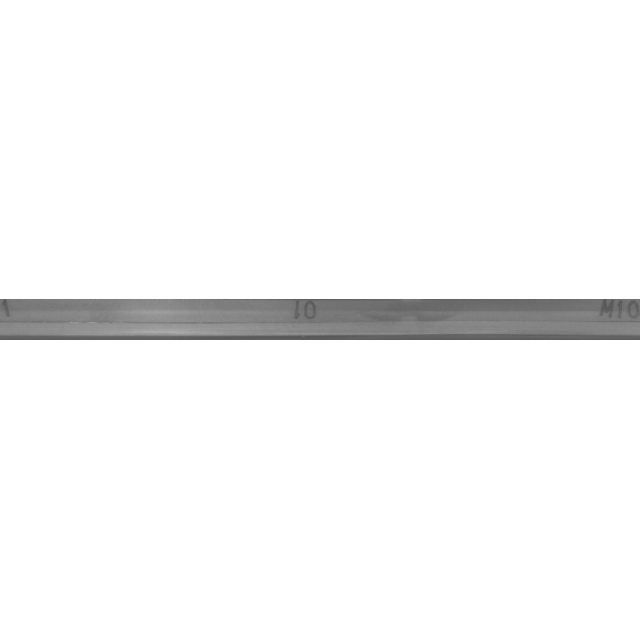mohao: (524, 270, 640, 370)
xuehao: (204, 270, 404, 370)
